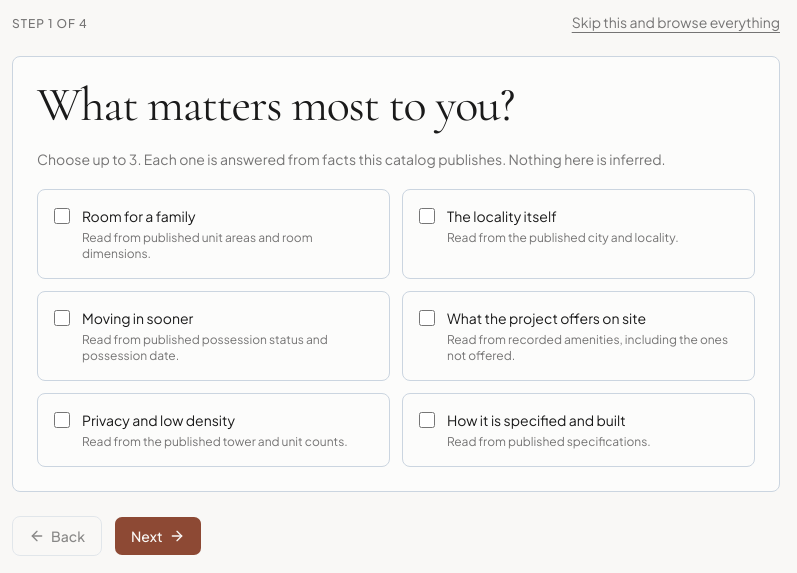
it: IntakeFlow — navigation › walks the four questions in order and lands on the brief
Expected: the text "Step 1 of 4" is shown, [12, 16, 88, 32]
Click the button "Next" at [158, 536], box [114, 516, 202, 556]
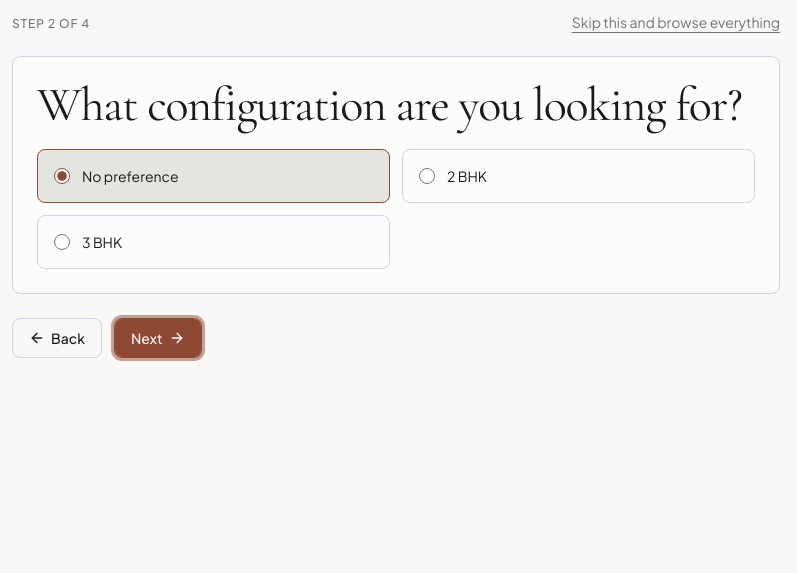
Expected: the text "Step 2 of 4" is shown, [12, 16, 90, 32]
Expected: the heading "What configuration are you looking for?" is shown, [37, 81, 755, 129]
Click the button "Next" at [158, 338], box [114, 318, 202, 358]
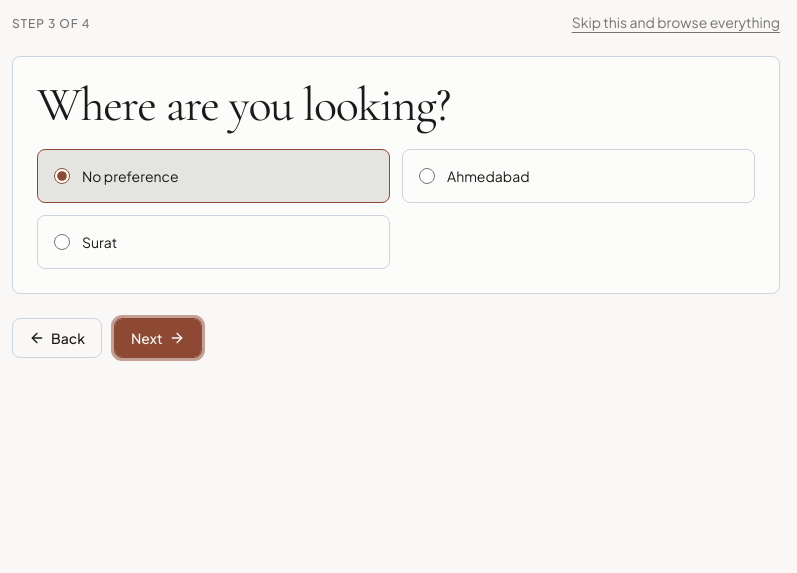
Expected: the heading "Where are you looking?" is shown, [37, 76, 450, 134]
Click the button "Next" at [158, 338], box [114, 318, 202, 358]
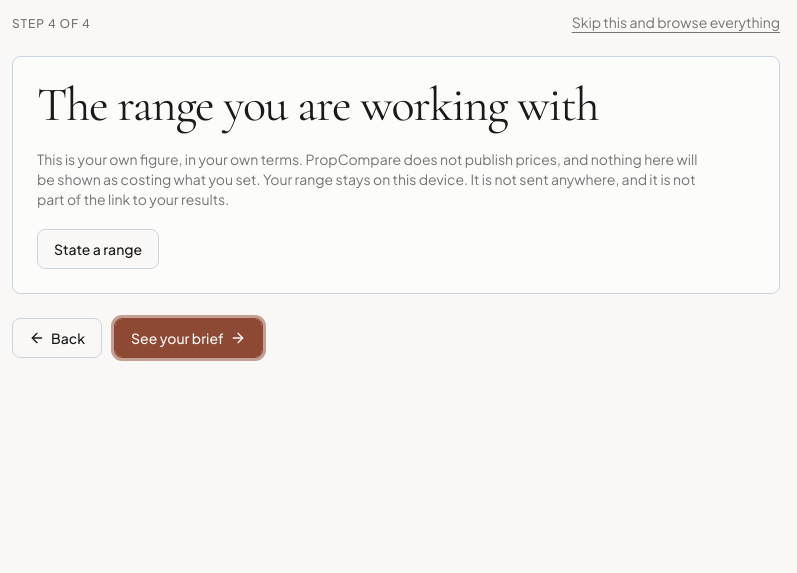
Expected: the heading "The range you are working with" is shown, [37, 76, 598, 134]
Expected: the button "See your brief" is shown
Click the button "See your brief" at [188, 338], box [114, 318, 263, 358]
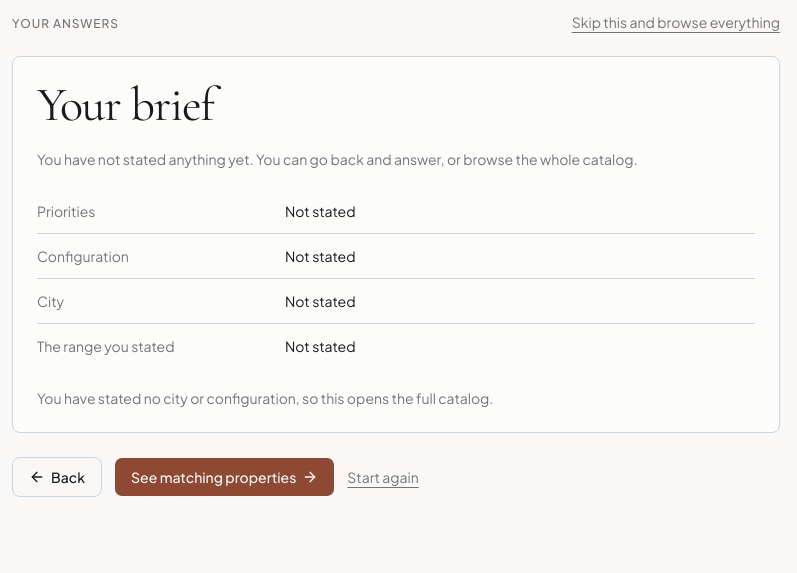
Expected: the heading "Your brief" is shown, [37, 76, 214, 134]
Expected: the text "Step 4 of 4" is gone
